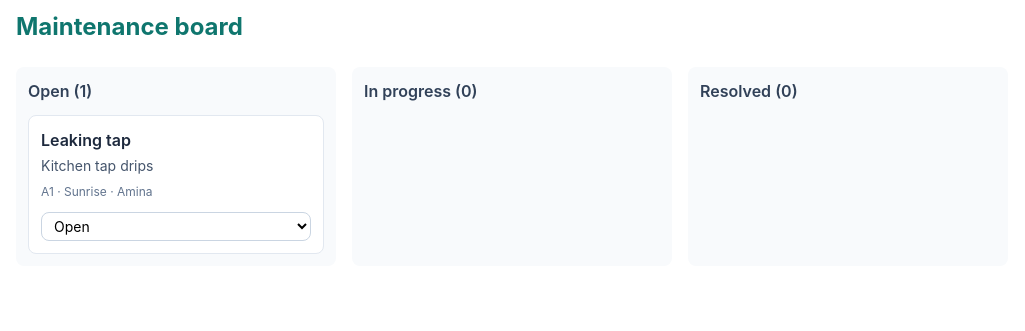
Test: MaintenanceBoard page › shows an error when the status cannot be changed
The image size is (1025, 331).
Select "Resolved" in the dropdown named "Status for Leaking tap" at (176, 226), box [41,212,311,241]
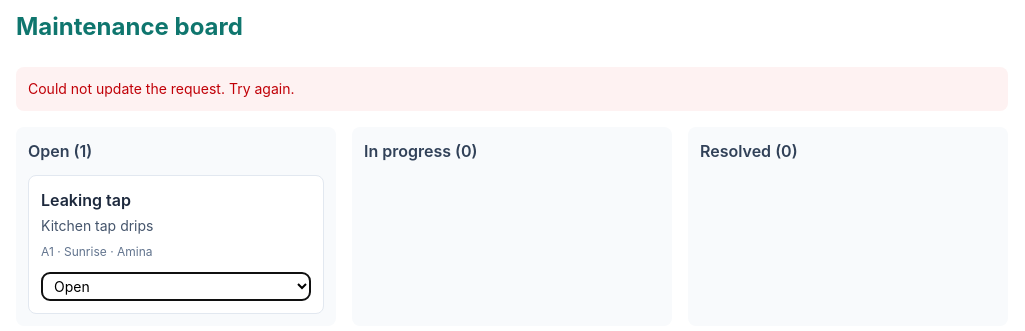
Now the message shows "Could not update the request", box [28,80,294,97]
